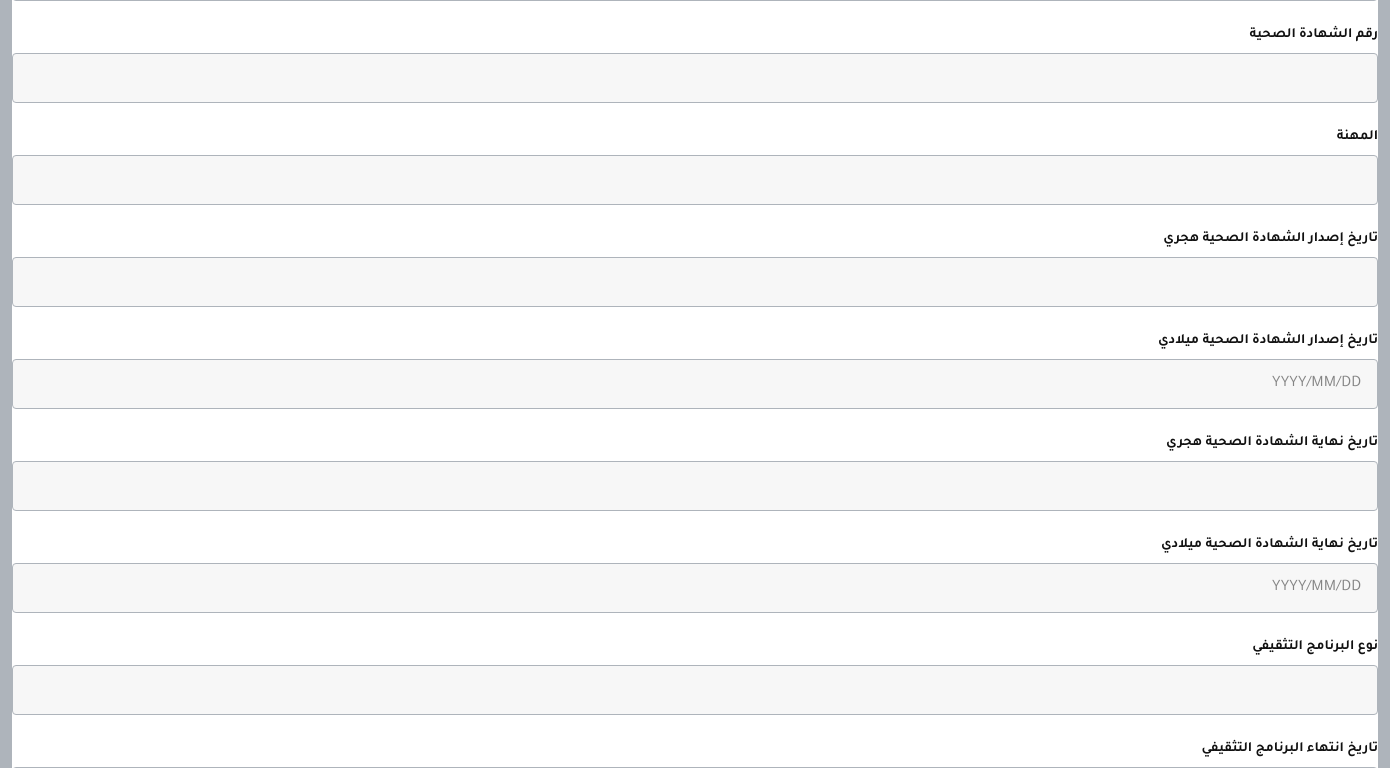
Scenario: EmployeeForm › auto-fills the Hijri issue date when the Gregorian issue date changes
The width and height of the screenshot is (1390, 768).
(page scrolled)
Type "2026-06-30" into the field labelled "تاريخ إصدار الشهادة الصحية ميلادي" at (695, 384), box [12,359,1378,409]
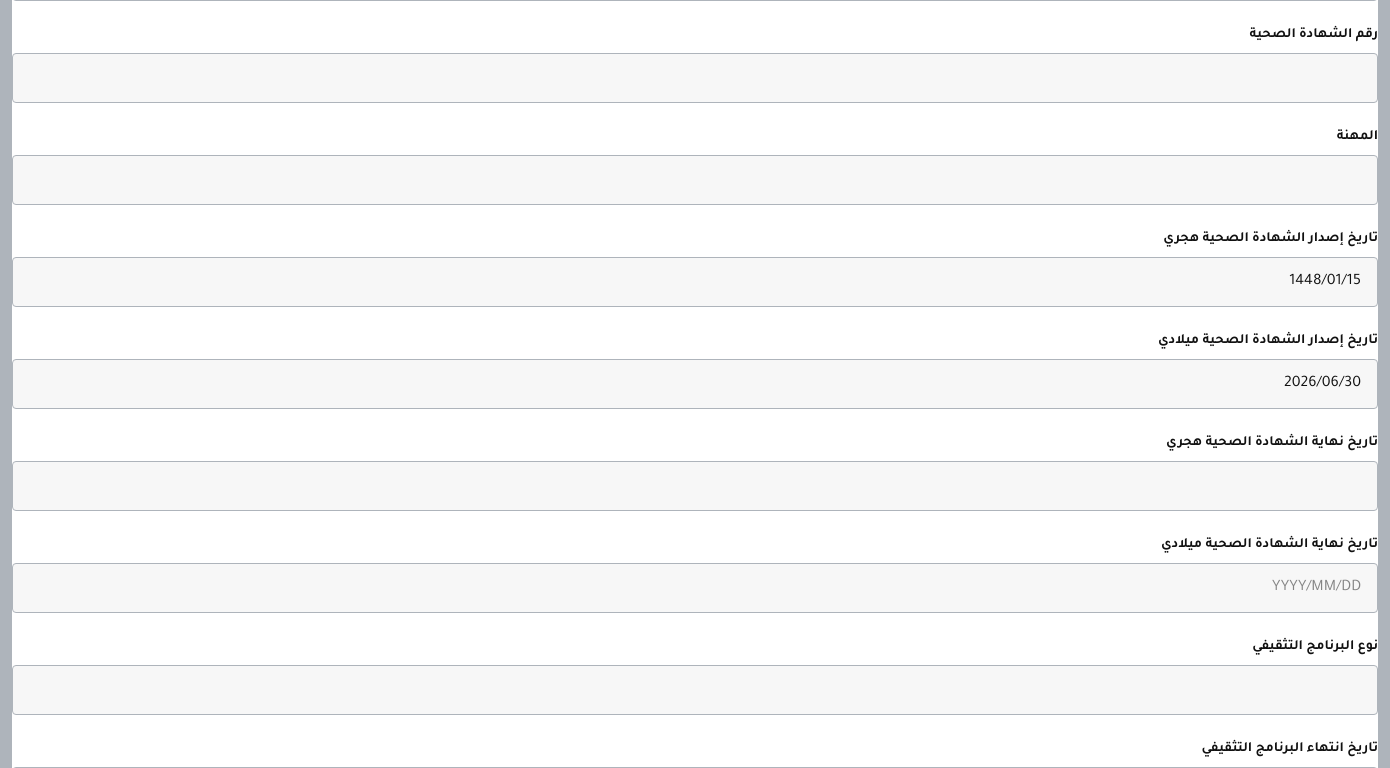
Expected: the field labelled "تاريخ إصدار الشهادة الصحية هجري" holds "1448/01/15", [12,257,1378,307]
